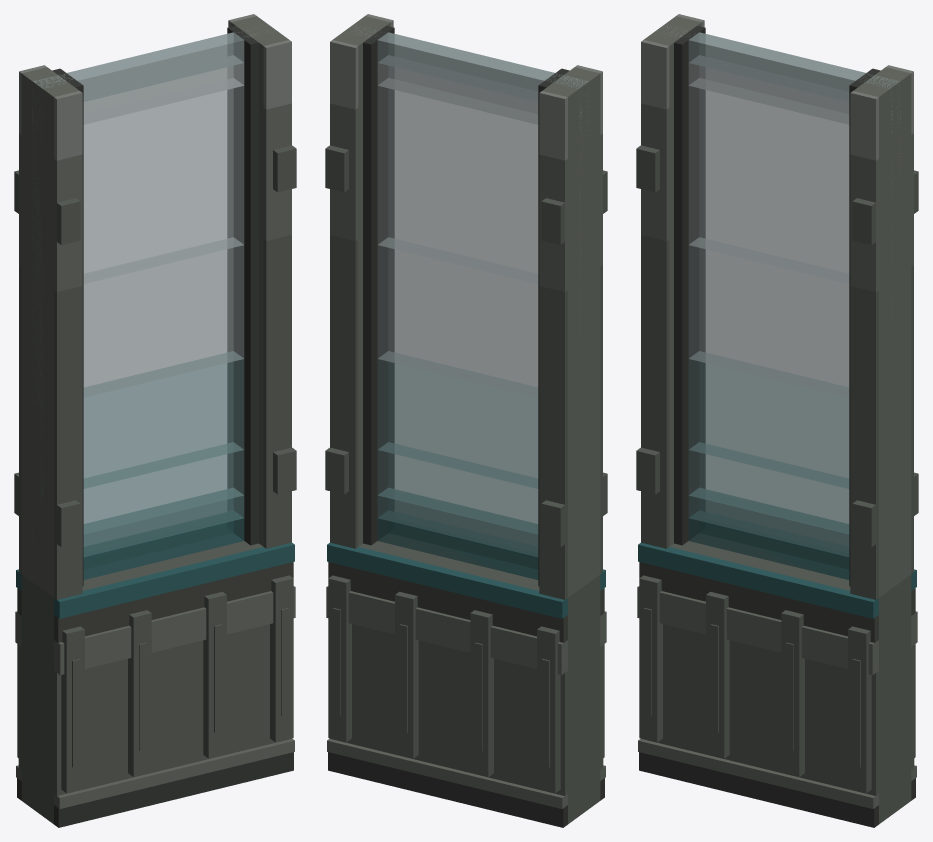
Rendered from CMU3DColonyReinforcedWindow.glb.
3 views of the same model, side by side, from view 1: azimuth 30°, elevation 25°; view 2: azimuth 150°, elevation 25°; view 3: azimuth 330°, elevation 25° (orthographic).
Visible parts, largest first — view 1: Colony pane rows 2-8, Colony pane rows 9-13, Lower fascia -1, West free end carrier, Colony pane rows 14-17, East inner rubber seal, Deep colony sill, Colony pane rows 18-19, West carrier band 1.17 -1, East carrier band 1.17 -1, Colony pane rows 0-0, Raised sill rim -1 (+28 smaller); view 2: Colony pane rows 2-8, Colony pane rows 9-13, Lower fascia 1, West free end carrier, Colony pane rows 14-17, East inner rubber seal, Deep colony sill, Colony pane rows 18-19, West carrier band 1.17 1, East carrier band 1.17 1, Colony pane rows 0-0, Raised sill rim 1 (+28 smaller); view 3: Colony pane rows 2-8, Colony pane rows 9-13, Lower fascia -1, East free end carrier, Colony pane rows 14-17, West inner rubber seal, Deep colony sill, Colony pane rows 18-19, West carrier band 1.17 -1, East carrier band 1.17 -1, Colony pane rows 0-0, Raised sill rim -1 (+28 smaller).
Part boxes in pixels (x1,y1,x2,y2): Colony pane rows 2-8: [32, 86, 244, 283]; Colony pane rows 9-13: [33, 237, 244, 401]; Lower fascia -1: [54, 624, 291, 795]; West free end carrier: [21, 67, 79, 597]; Colony pane rows 14-17: [40, 351, 244, 496]; East inner rubber seal: [227, 25, 258, 545]; Deep colony sill: [21, 541, 263, 824]; Colony pane rows 18-19: [32, 442, 244, 534]; West carrier band 1.17 -1: [54, 286, 82, 498]; East carrier band 1.17 -1: [263, 235, 291, 447]; Colony pane rows 0-0: [32, 28, 274, 111]; Raised sill rim -1: [54, 586, 295, 675]; Colony pane rows 2-8: [377, 86, 586, 283]; Colony pane rows 9-13: [377, 238, 580, 397]; Lower fascia 1: [330, 624, 567, 795]; West free end carrier: [542, 67, 600, 597]; Colony pane rows 14-17: [377, 351, 538, 488]; East inner rubber seal: [363, 25, 394, 545]; Deep colony sill: [358, 533, 600, 824]; Colony pane rows 18-19: [377, 442, 538, 534]; West carrier band 1.17 1: [539, 286, 567, 498]; East carrier band 1.17 1: [330, 235, 358, 447]; Colony pane rows 0-0: [349, 24, 589, 108]; Raised sill rim 1: [326, 586, 567, 675]; Colony pane rows 2-8: [688, 86, 900, 283]; Colony pane rows 9-13: [688, 238, 849, 397]; Lower fascia -1: [641, 624, 878, 795]; East free end carrier: [853, 67, 911, 597]; Colony pane rows 14-17: [688, 351, 849, 488]; West inner rubber seal: [674, 25, 705, 545]; Deep colony sill: [669, 533, 911, 824]; Colony pane rows 18-19: [688, 442, 849, 534]; West carrier band 1.17 -1: [641, 235, 669, 447]; East carrier band 1.17 -1: [850, 286, 878, 498]; Colony pane rows 0-0: [657, 25, 900, 106]; Raised sill rim -1: [637, 586, 878, 675].
Size of the model in its own units: 0.88 by 2.6 by 0.332.
